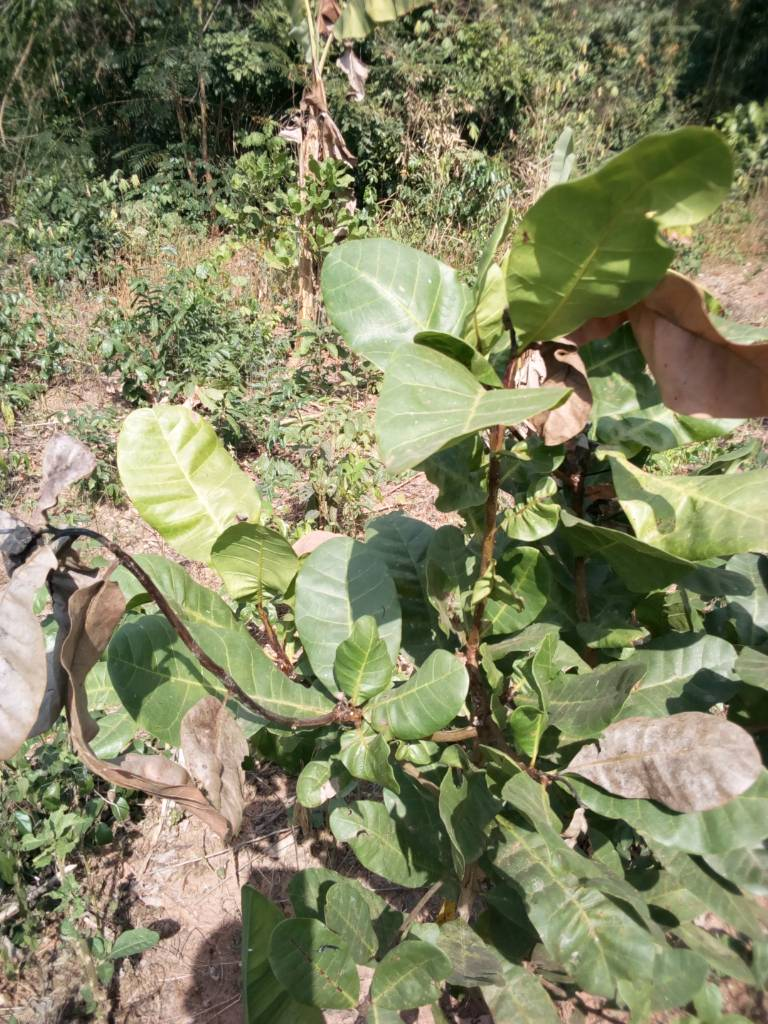Dessèchement des bourgeons: (1, 491, 94, 603)
